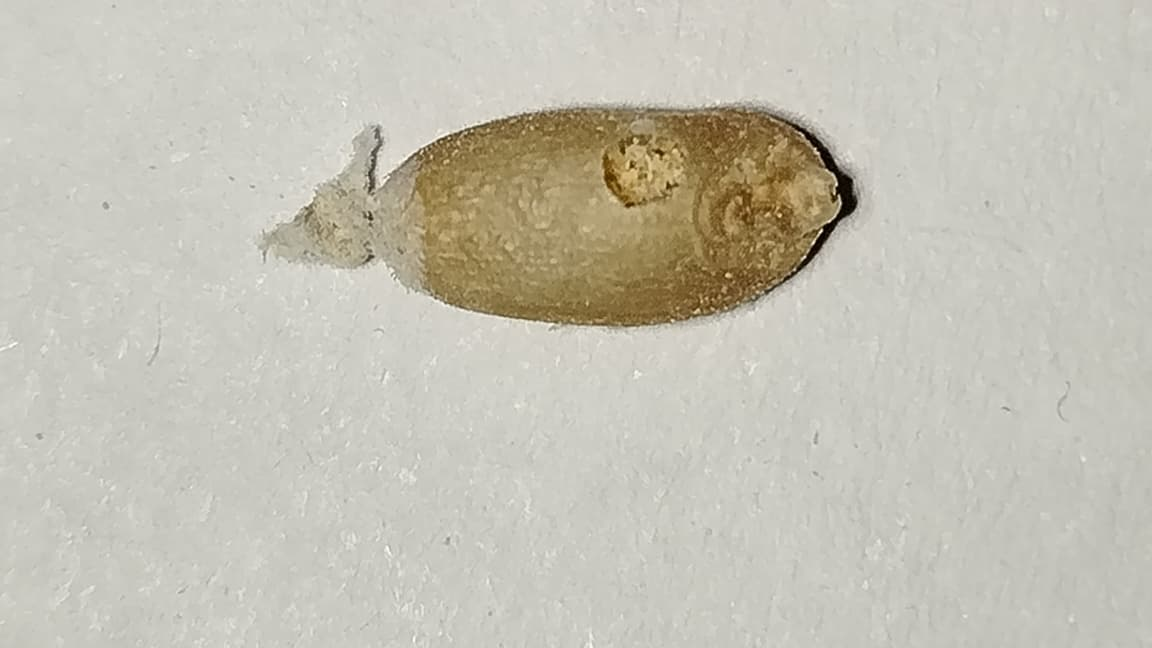damage: (265, 107, 840, 325)
insectdamage: (589, 112, 679, 218)
molddamage: (257, 125, 422, 290)
